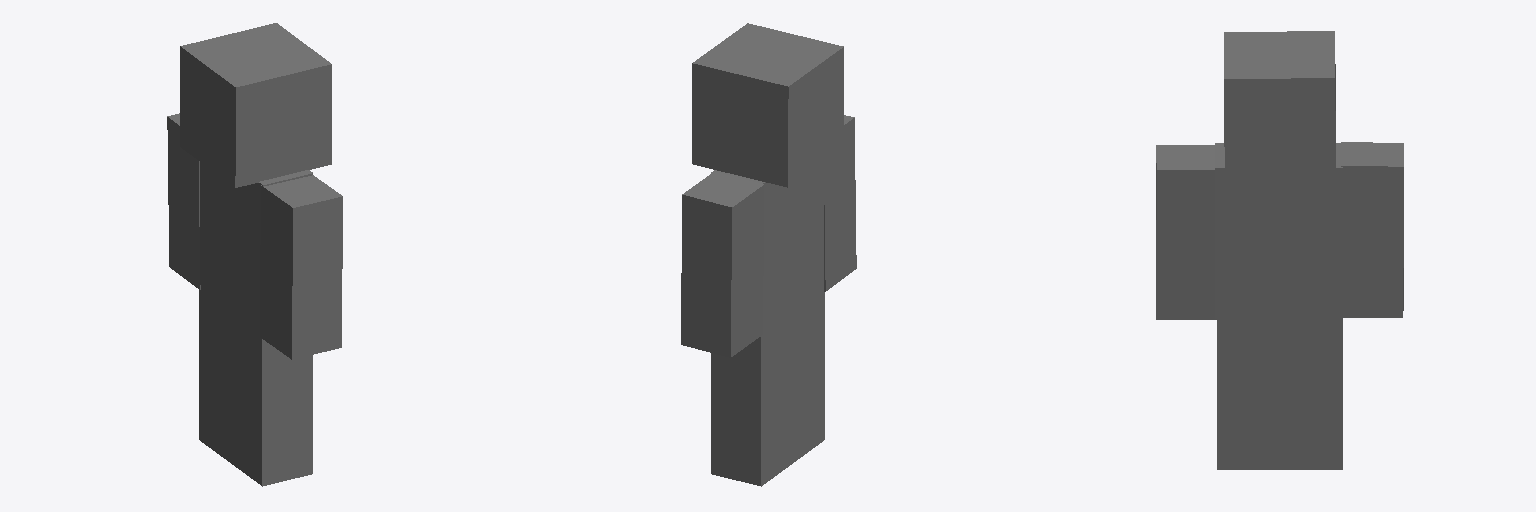
Rendered from SteveFinalOld.obj.
The picture shows the model from 3 angles: view 1: azimuth 30°, elevation 25°; view 2: azimuth 150°, elevation 25°; view 3: azimuth 270°, elevation 25°; orthographic projection.
Visible parts, largest first — view 1: SteveOld; view 2: SteveOld; view 3: SteveOld.
Part boxes in pixels (x1,y1,x2,y2): SteveOld: (167,23,342,486); SteveOld: (681,23,856,486); SteveOld: (1156,31,1403,469).
Bounding box in the file's own units: 0.4708 × 1.88 × 1.05.